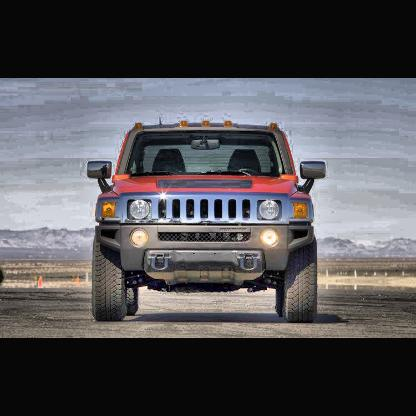HUMMER H3T Crew Cab 2010: (87, 119, 330, 324)
